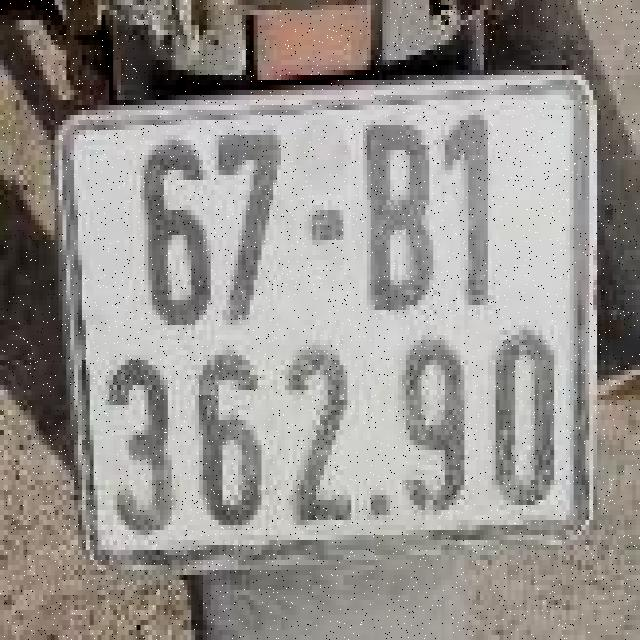0: (486, 322, 572, 528)
1: (437, 102, 500, 312)
2: (283, 332, 369, 532)
3: (98, 340, 180, 540)
6: (191, 335, 281, 530), (134, 135, 216, 330)
7: (210, 125, 292, 340)
9: (398, 325, 480, 525)
B: (355, 108, 441, 318)
